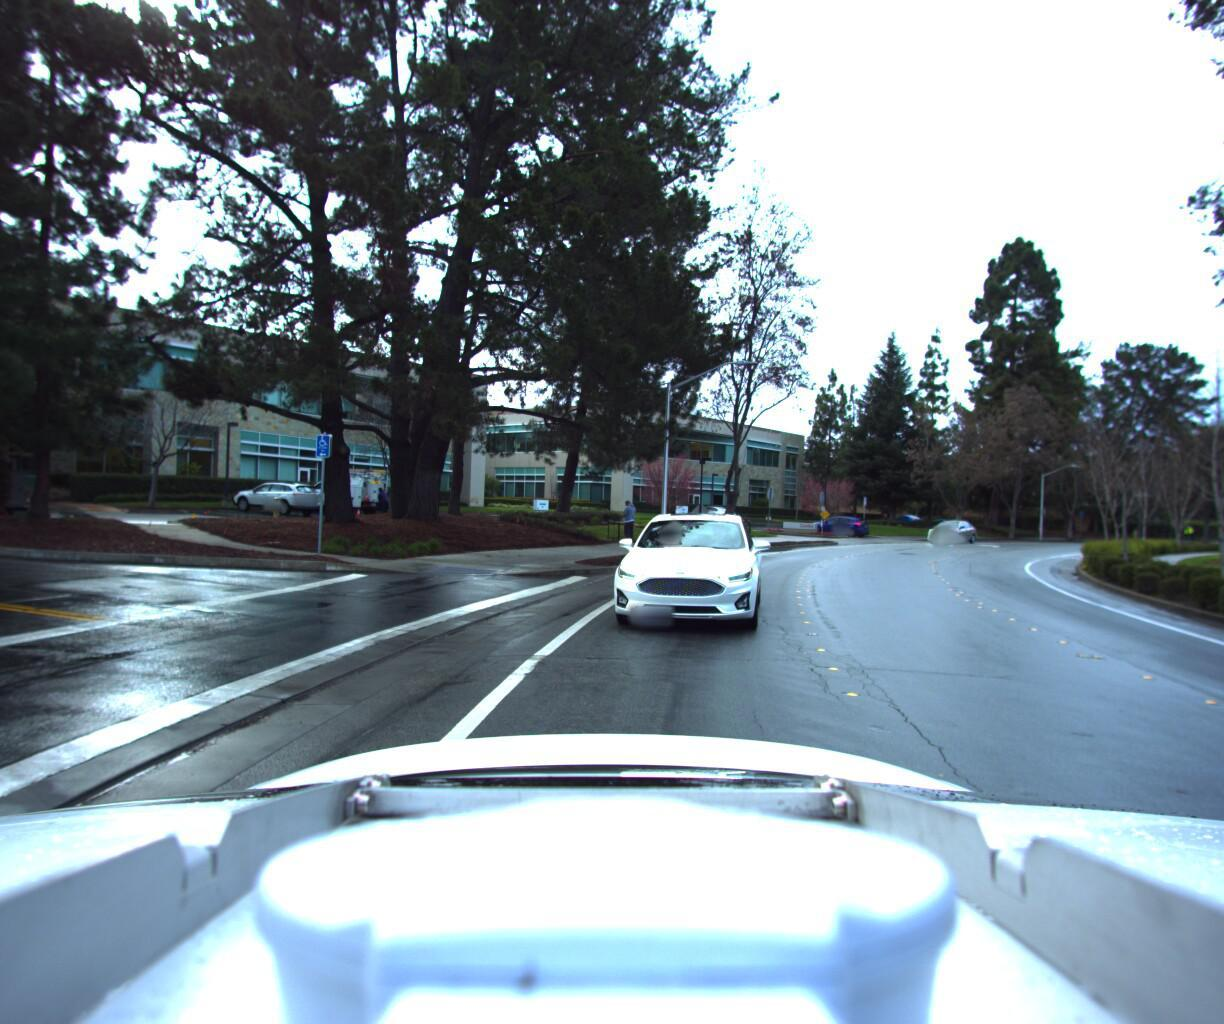car: (585, 511, 769, 656), (798, 515, 871, 538), (920, 518, 979, 544)
